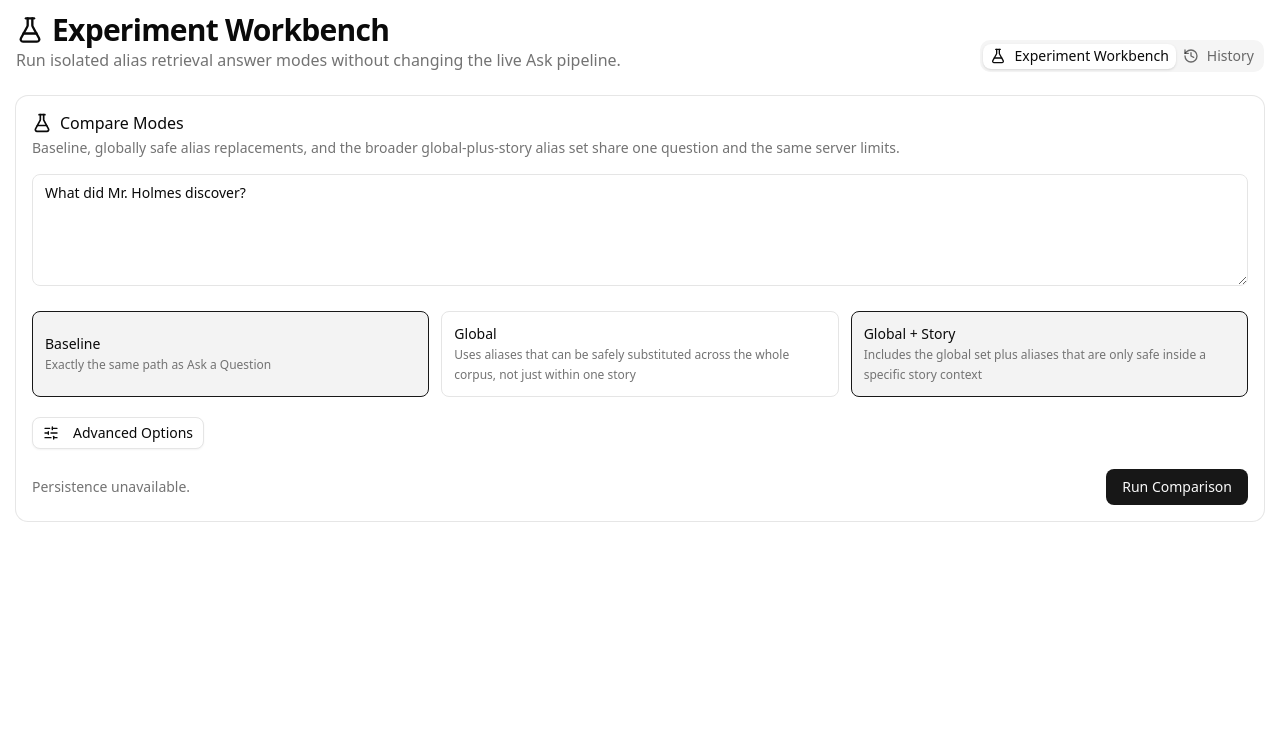
Test: ExperimentComparePage › keeps story controls enabled when Global + Story is selected alongside Global
Expected: the text "Compare Modes" is shown, [32,112,184,134]
Click the button "Advanced Options".
click(118, 433)  # box [32,417,204,449]
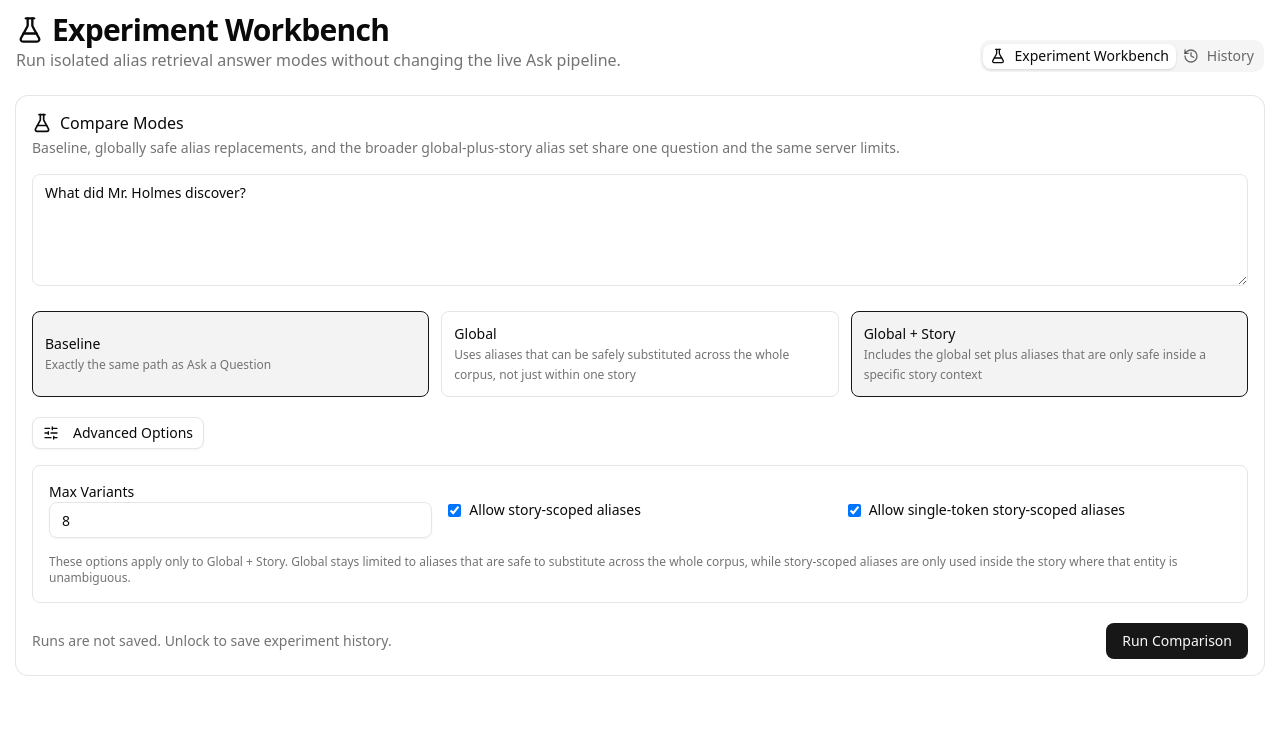
Expected: the checkbox labelled "Allow story-scoped aliases" is enabled, [448,504,461,516]
Expected: the text "Runs are not saved. Unlock to save experiment history." is shown, [32,631,392,651]
